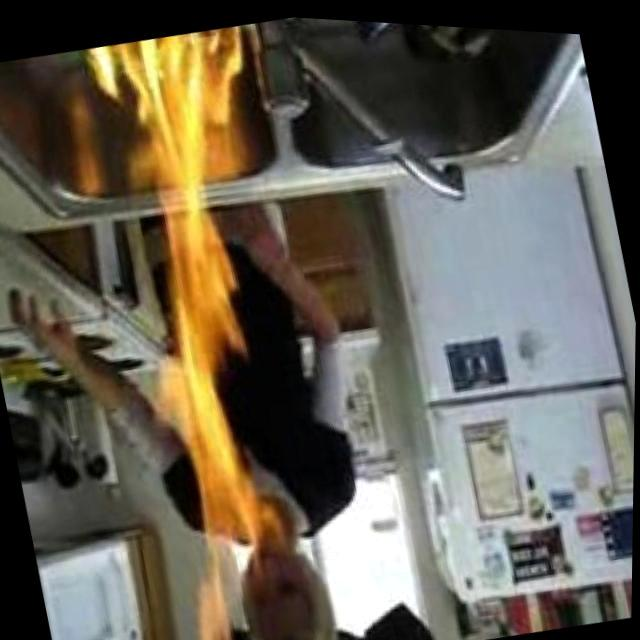fire: (80, 13, 350, 563)
